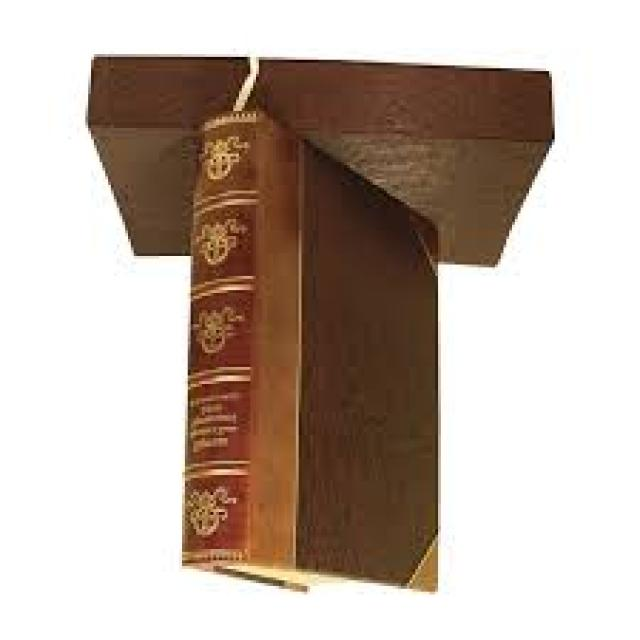book: (164, 124, 469, 592)
